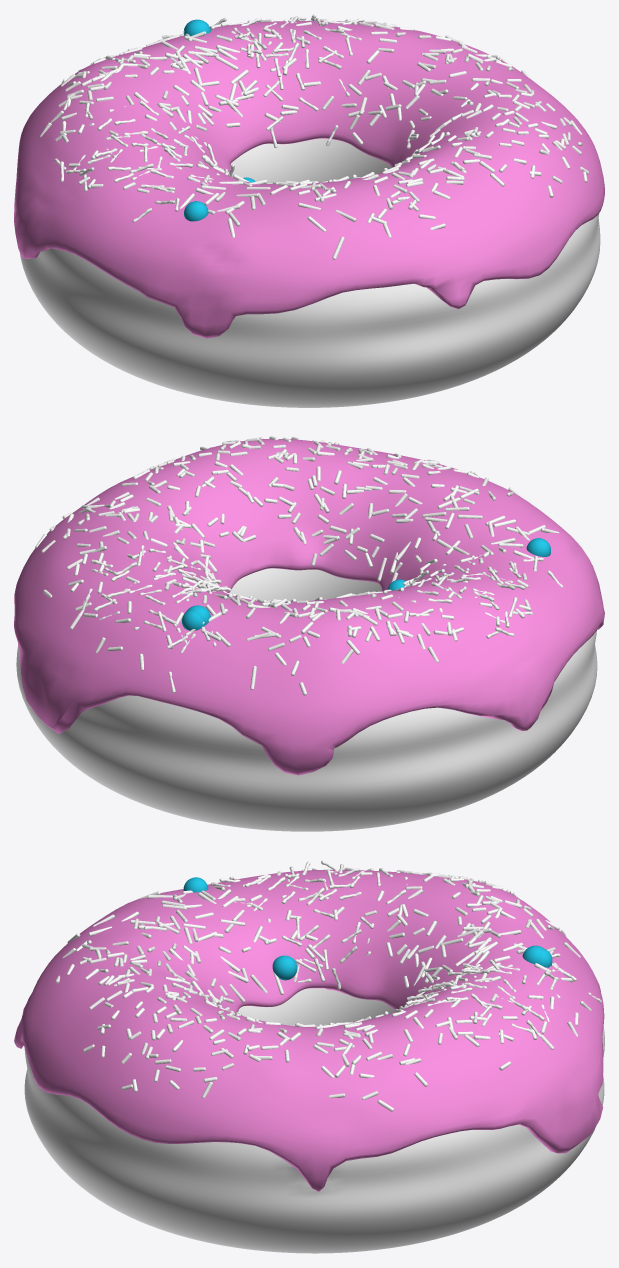
The model's file is jelly.glb.
3 views of the same model, one above another, from view 1: azimuth 30°, elevation 25°; view 2: azimuth 150°, elevation 25°; view 3: azimuth 270°, elevation 25° (orthographic).
Parts seen in each view (by area): view 1: ice, donut base; view 2: ice, donut base; view 3: ice, donut base.
Boxes of the visible parts, box(x1,y1,x2,y2) form: ice: box(14, 21, 604, 338); donut base: box(20, 138, 600, 407); ice: box(14, 439, 604, 775); donut base: box(16, 568, 597, 831); ice: box(14, 870, 604, 1191); donut base: box(24, 988, 604, 1253).
Size of the model in its own units: 4.7 by 1.91 by 4.64.
